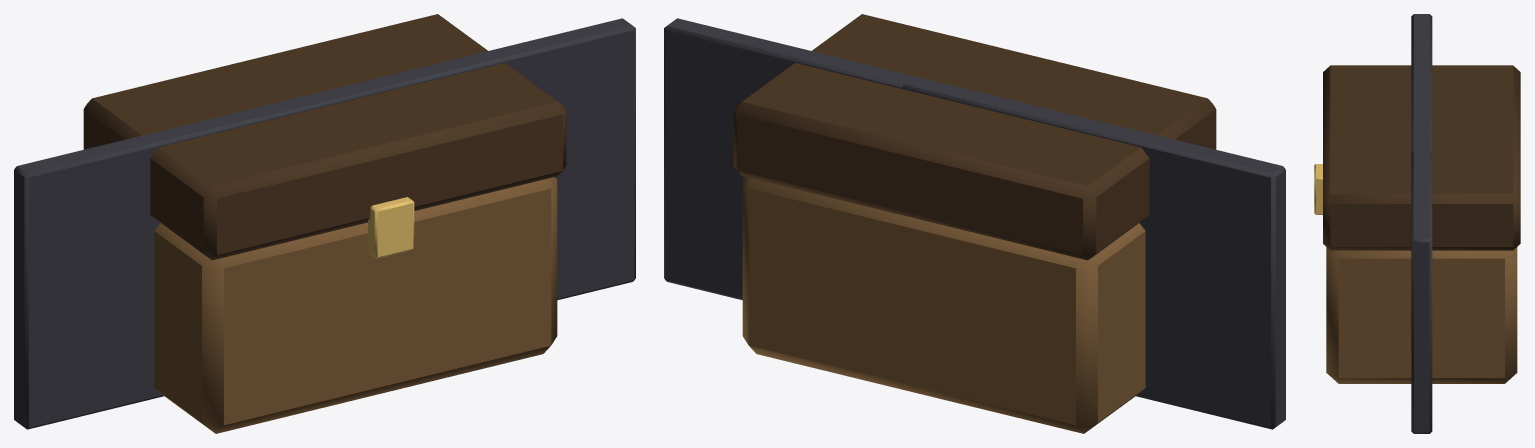
Rendered from chest.glb.
The picture shows the model from 3 angles, left to right: view 1: azimuth 30°, elevation 25°; view 2: azimuth 150°, elevation 25°; view 3: azimuth 270°, elevation 25°; orthographic projection. The views are drawn at different scales.
Visible parts, largest first — view 1: building; view 2: building; view 3: building.
Part boxes in pixels (x1,y1,x2,y2): building: (14, 14, 635, 433); building: (664, 14, 1285, 433); building: (1314, 14, 1520, 433).
Bounding box in the file's own units: 1.55 × 0.625 × 0.595.
